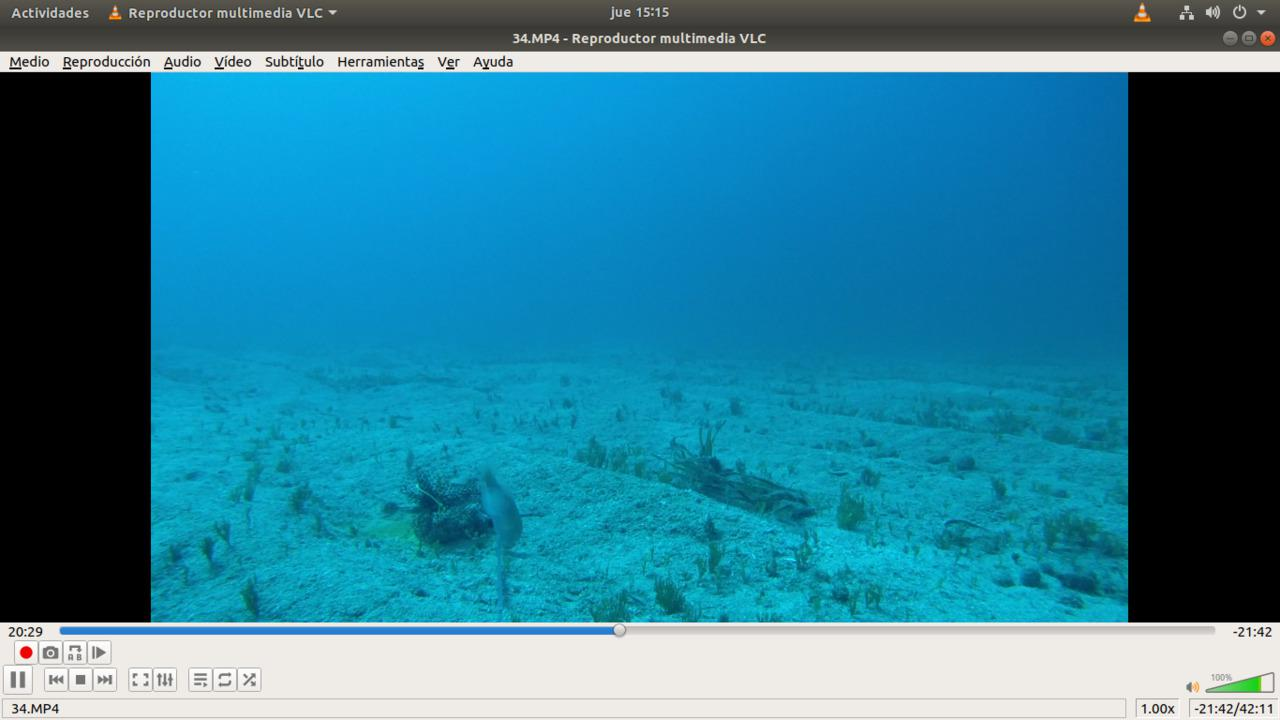raor: (467, 467, 524, 555)
